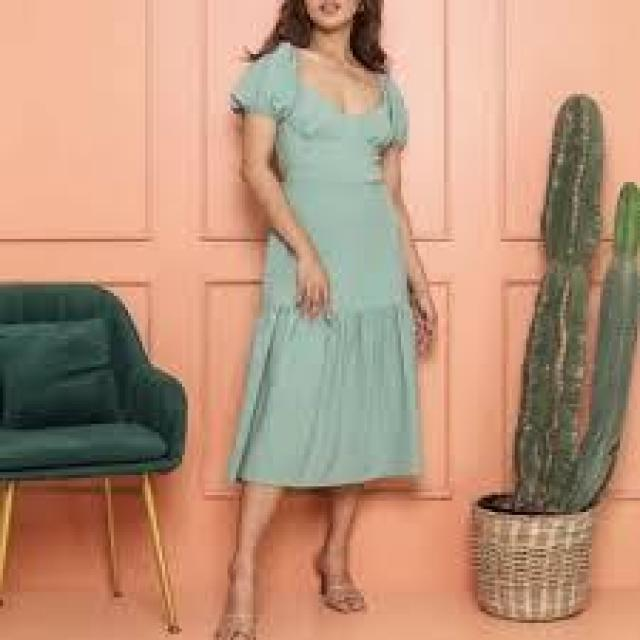dress: (209, 32, 445, 510)
